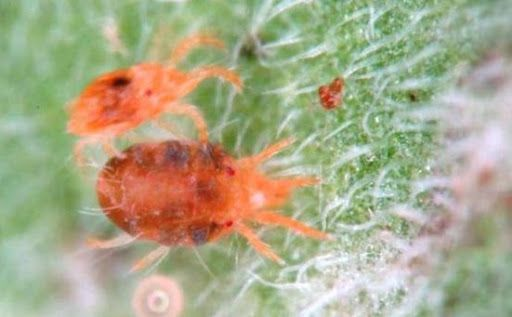Mites: (91, 125, 329, 265), (61, 34, 250, 139)
